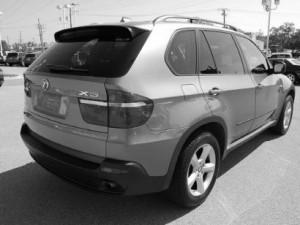car: (18, 11, 300, 205)
